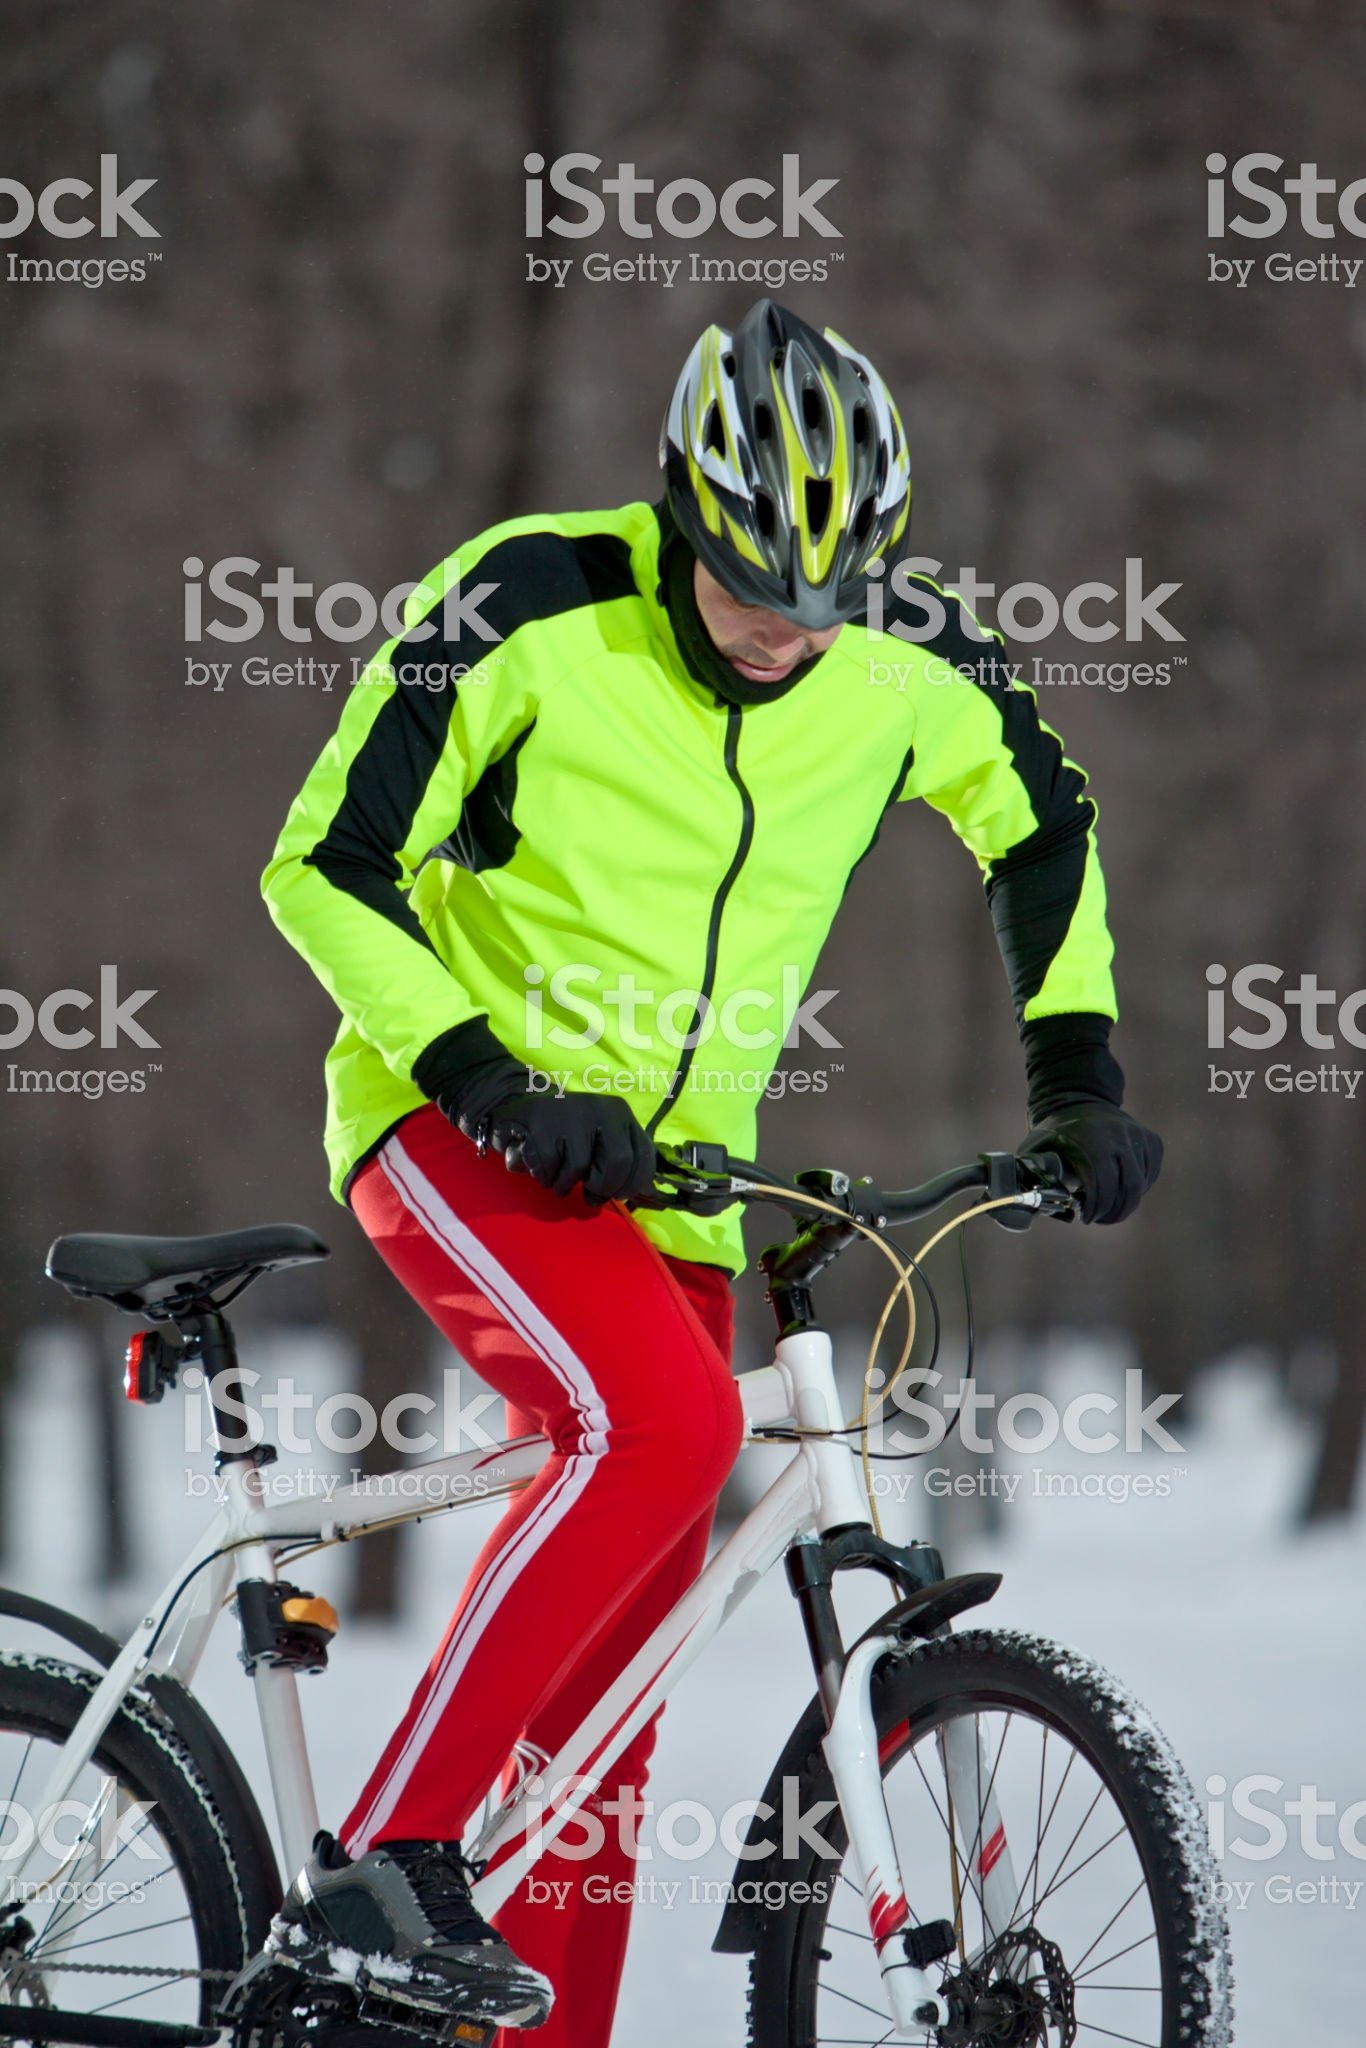helmet: (630, 322, 1008, 606)
